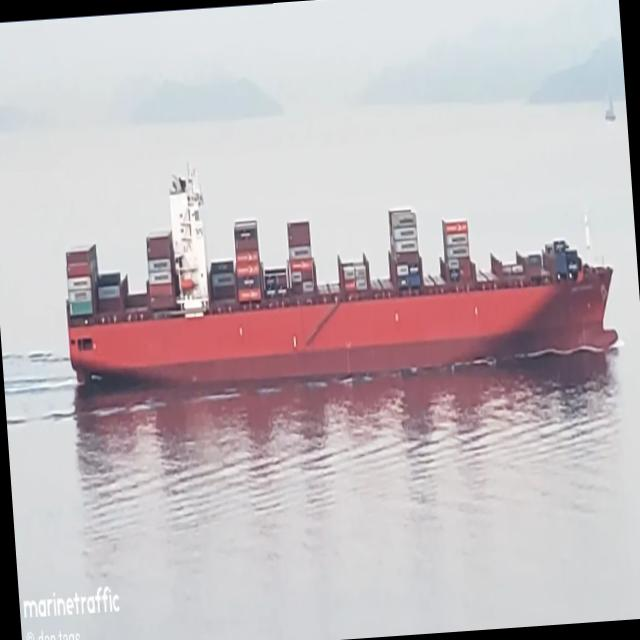Cargo: (65, 173, 617, 385)
